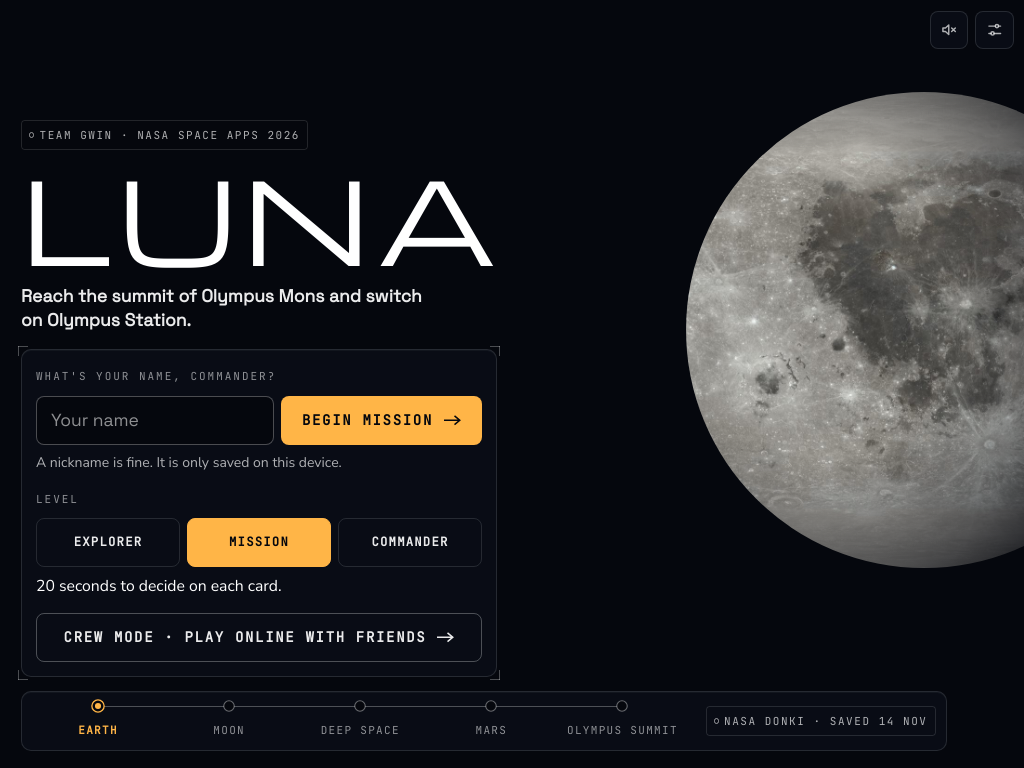
Test: first-time player flow › a new player can skip the tutorial (still starts Mission 1) and go back to the map
Type "Ana" into the field labelled "What's your name, Commander?" at (155,420), box x1=36 y1=396 x2=274 y2=445
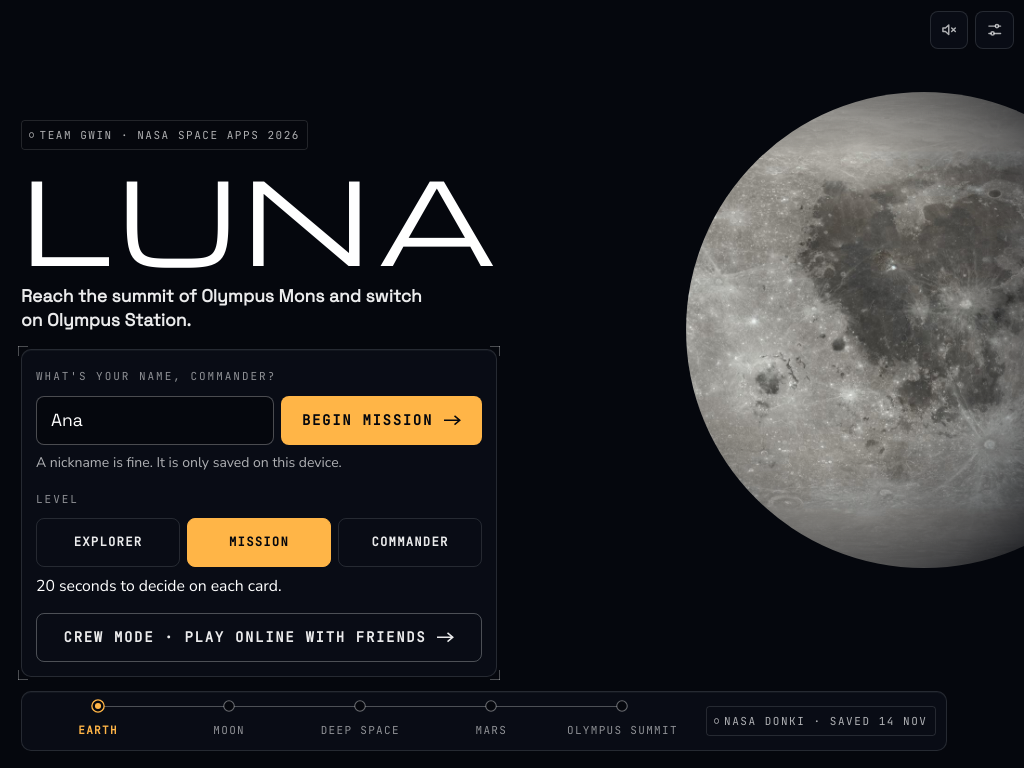
Click the button "Begin mission" at (382,420), box x1=281 y1=396 x2=482 y2=445
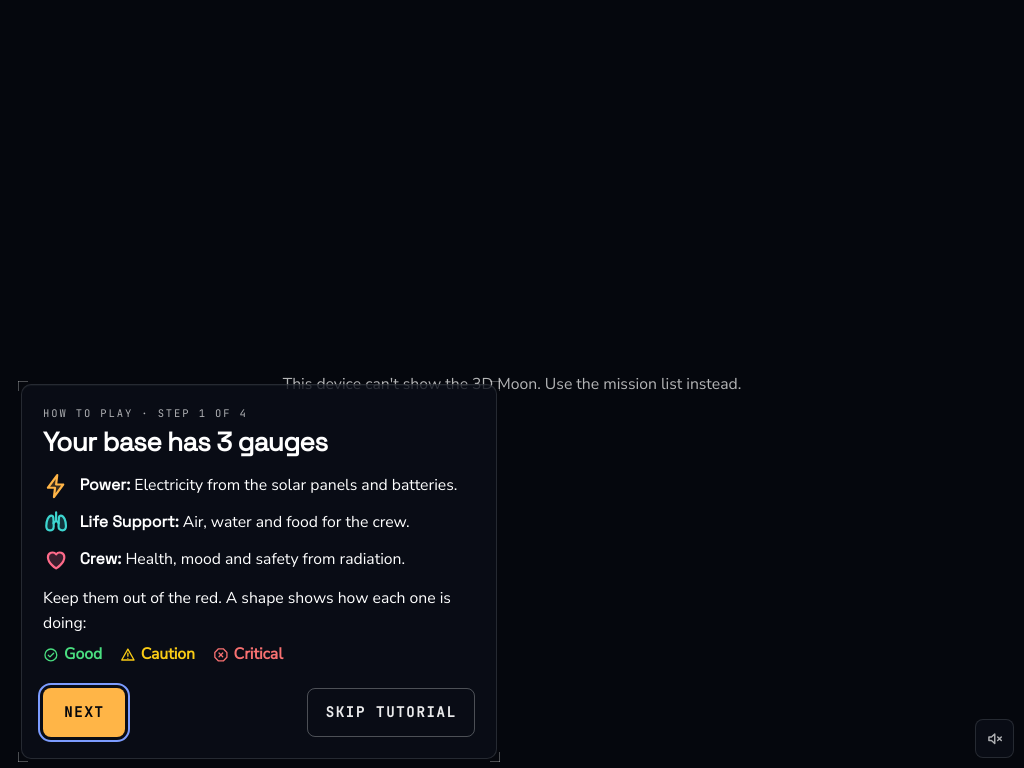
Click the button "Skip tutorial" at (391,712), box x1=307 y1=688 x2=475 y2=737
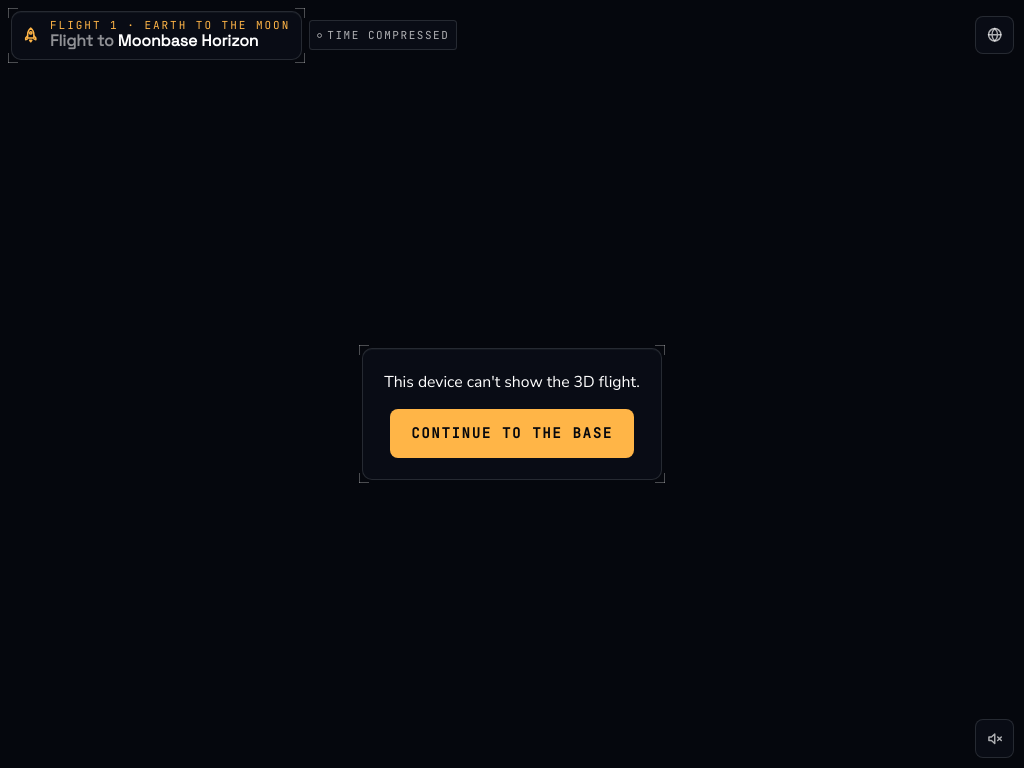
Result: the text "Flight to" is shown at x1=50 y1=32 x2=118 y2=51
Click the button "Continue to the base" at (512,433), box x1=390 y1=409 x2=634 y2=458
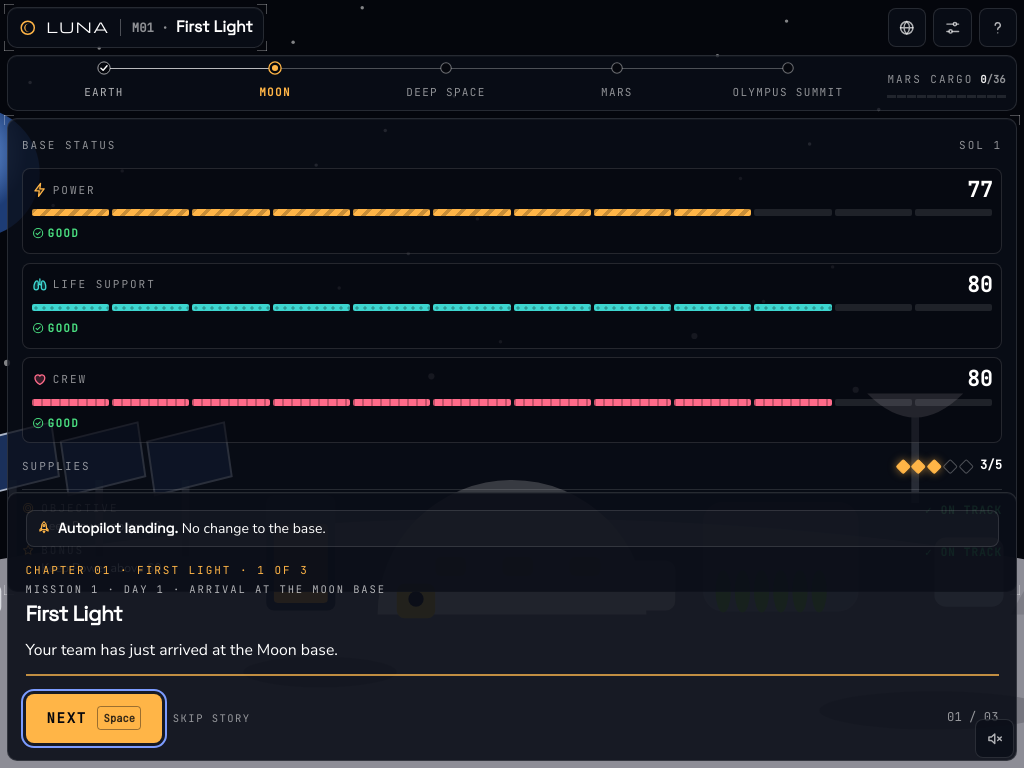
Result: the text "Mission 1 · Day 1 · Arrival at the Moon base" is shown at x1=26 y1=582 x2=386 y2=596
Result: the text "Autopilot landing." is shown at x1=58 y1=519 x2=178 y2=537
Click the button named "Back to the map" at (907,27), box x1=888 y1=8 x2=926 y2=46
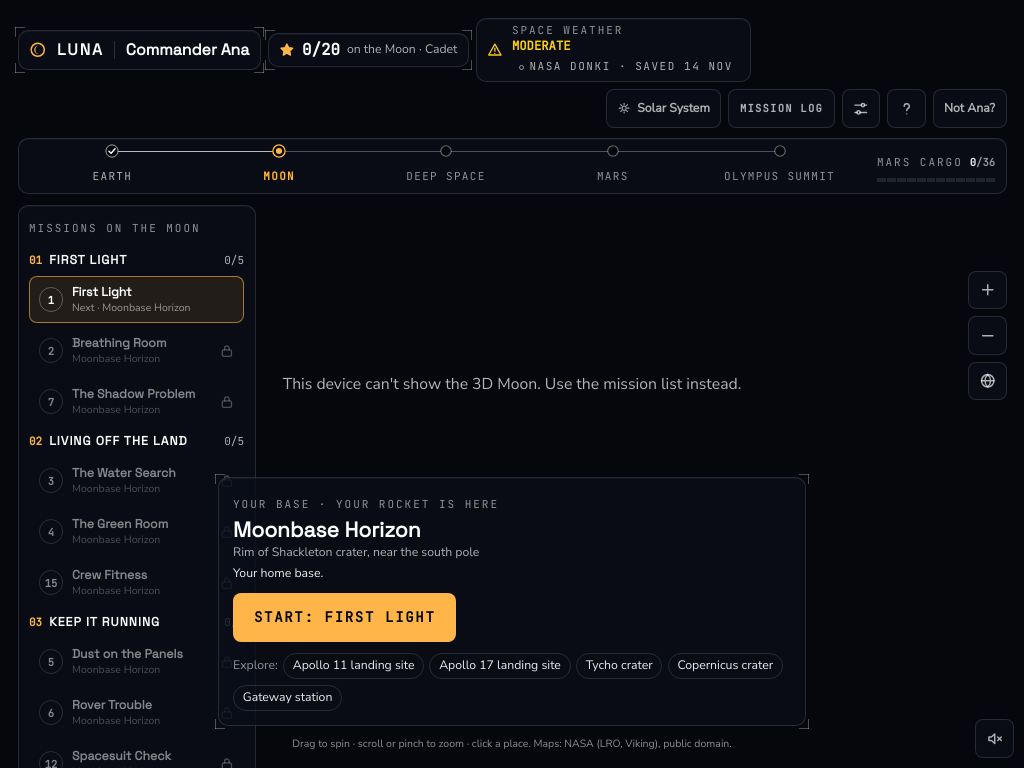
Result: the heading "Commander Ana" is shown at x1=126 y1=38 x2=249 y2=62
